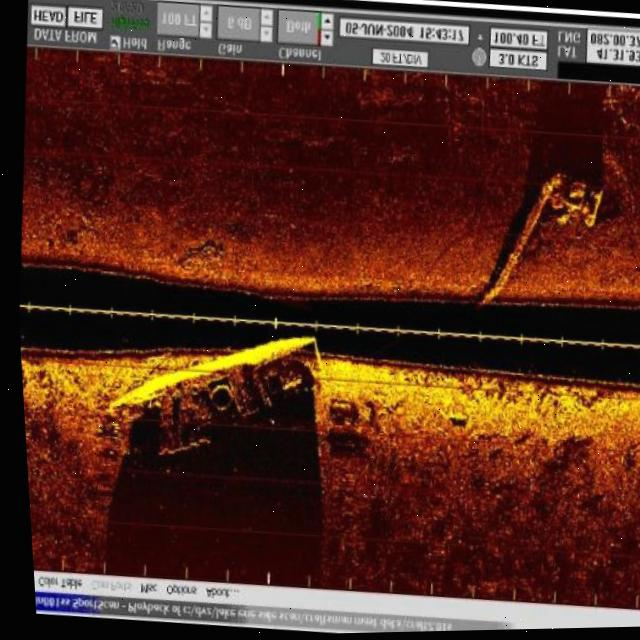shipwreck: (92, 309, 327, 473), (462, 165, 608, 322)
